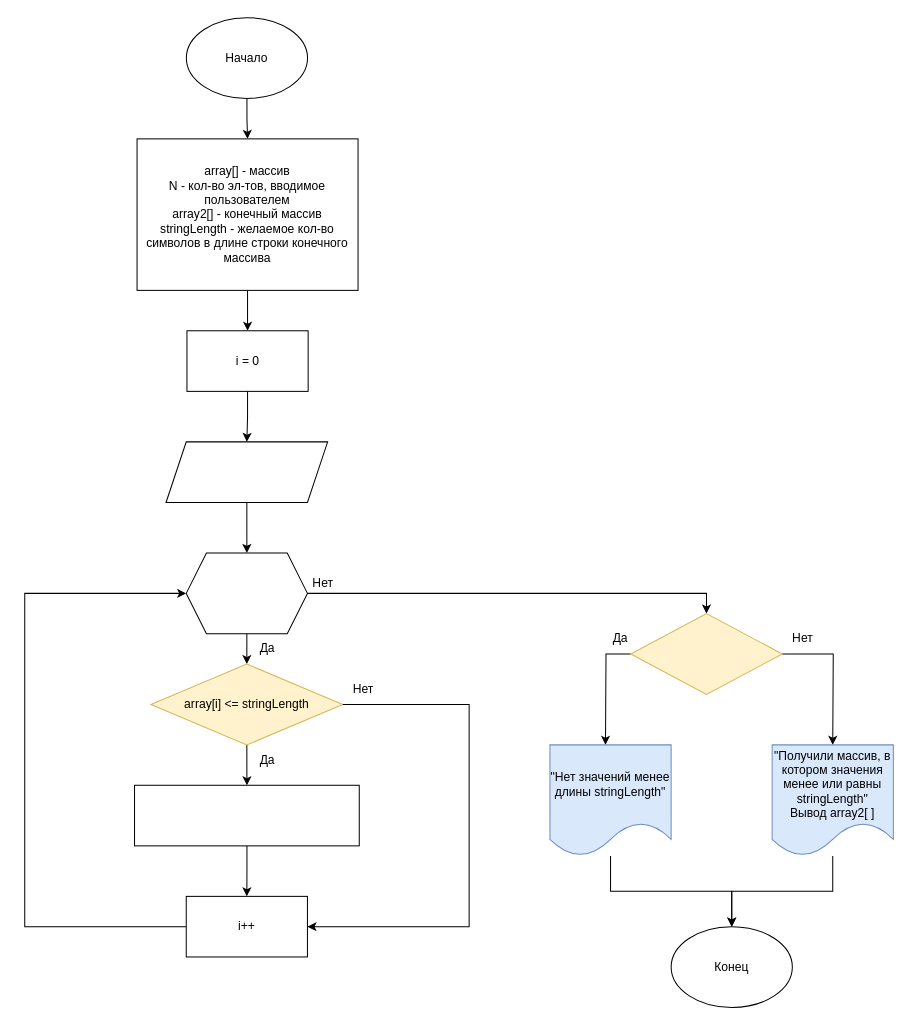
This 911x1025 diagram has some shape labels left out. The shapes that lost their labels are listed below. From the top down, each one's centre as x and y in pixels, then its label:
At point 246,471: "array[i], N".
At point 246,593: "i < N".
At point 706,653: "array2[ ] == 0".
At point 246,815: "array2[ ] += array[i]".
